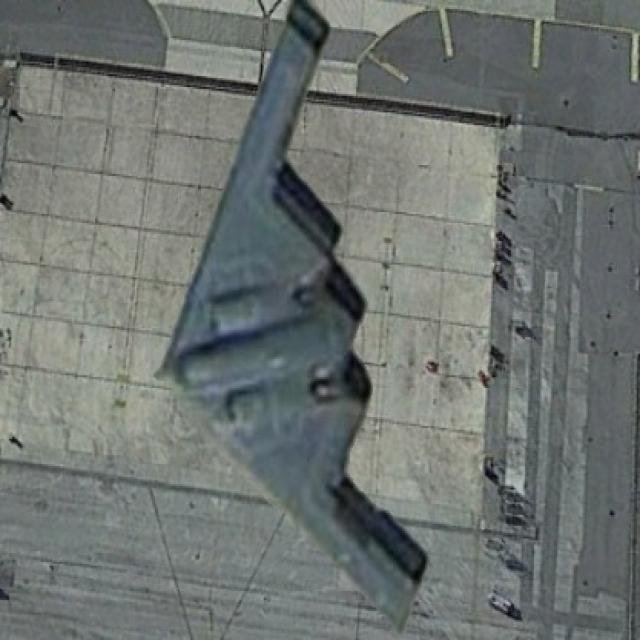B-2_TopDown: (150, 0, 432, 635)
